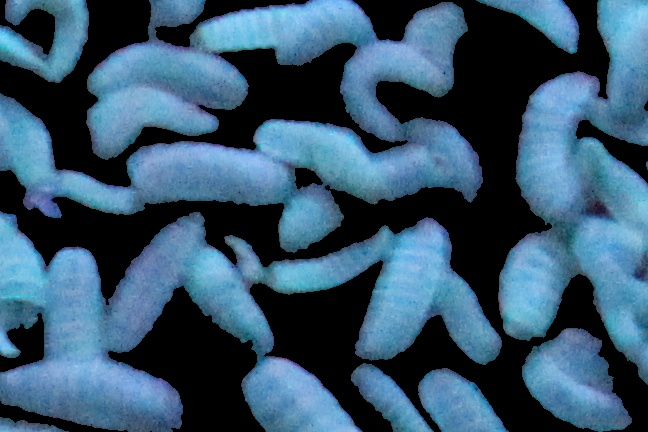larvae: (104, 209, 208, 347), (1, 354, 185, 432), (261, 116, 401, 211), (354, 218, 445, 359), (183, 242, 283, 359), (89, 45, 259, 112), (263, 220, 401, 302), (229, 351, 363, 432), (513, 74, 589, 216), (87, 88, 223, 166), (517, 343, 636, 432), (342, 42, 449, 138), (133, 149, 297, 204), (404, 113, 495, 211), (275, 1, 382, 80), (432, 267, 509, 372), (574, 134, 648, 239), (499, 228, 568, 340), (399, 1, 473, 101), (6, 1, 97, 81), (591, 1, 646, 127), (28, 168, 156, 221), (451, 1, 578, 52), (185, 6, 320, 53), (43, 250, 102, 357), (417, 363, 505, 432), (345, 360, 429, 432), (1, 217, 40, 365), (1, 94, 55, 188)
